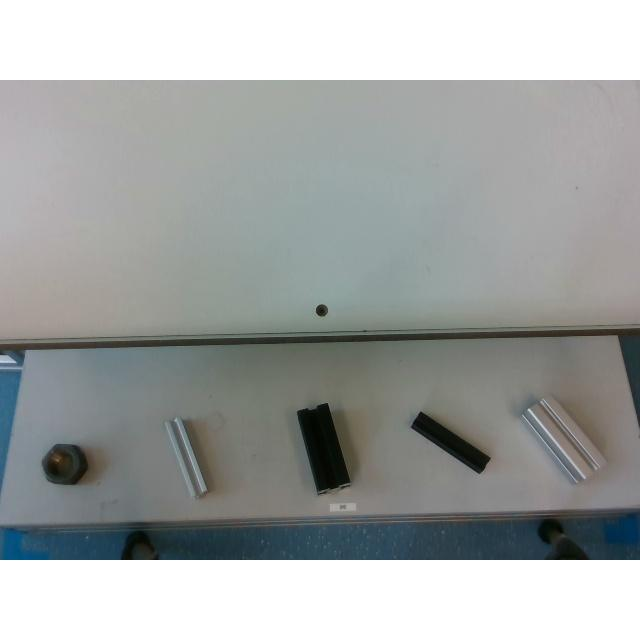F20_20_B: (410, 411, 490, 473)
F20_20_G: (165, 418, 208, 498)
M30: (42, 444, 86, 484)
S40_40_B: (298, 402, 350, 493)
S40_40_G: (522, 395, 606, 483)
